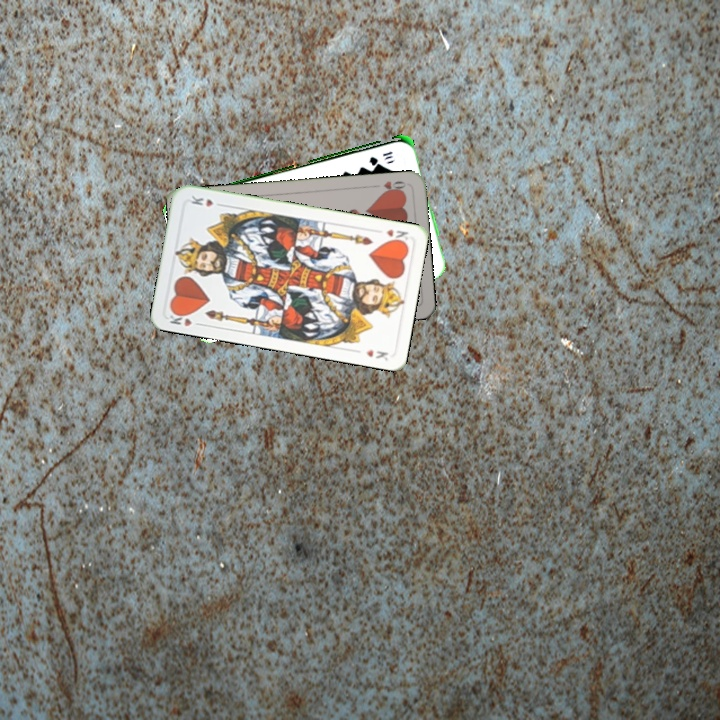G10: (365, 147, 395, 167)
HK: (166, 307, 195, 329), (382, 225, 411, 246)
HO: (378, 177, 408, 196)
